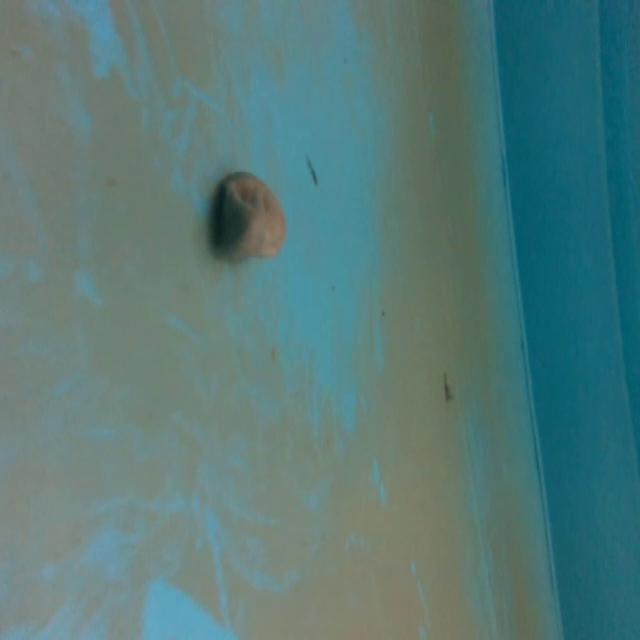rock: (203, 160, 293, 268)
